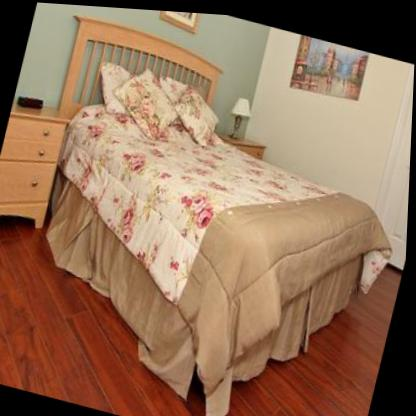Bed: (0, 6, 411, 416)
